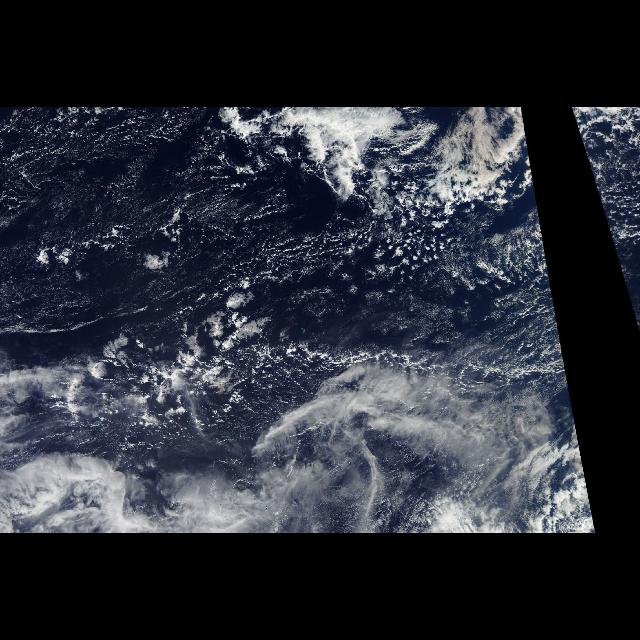Gravel: (27, 207, 430, 455), (570, 112, 640, 250), (492, 112, 546, 250)
Sugar: (4, 112, 274, 326)
